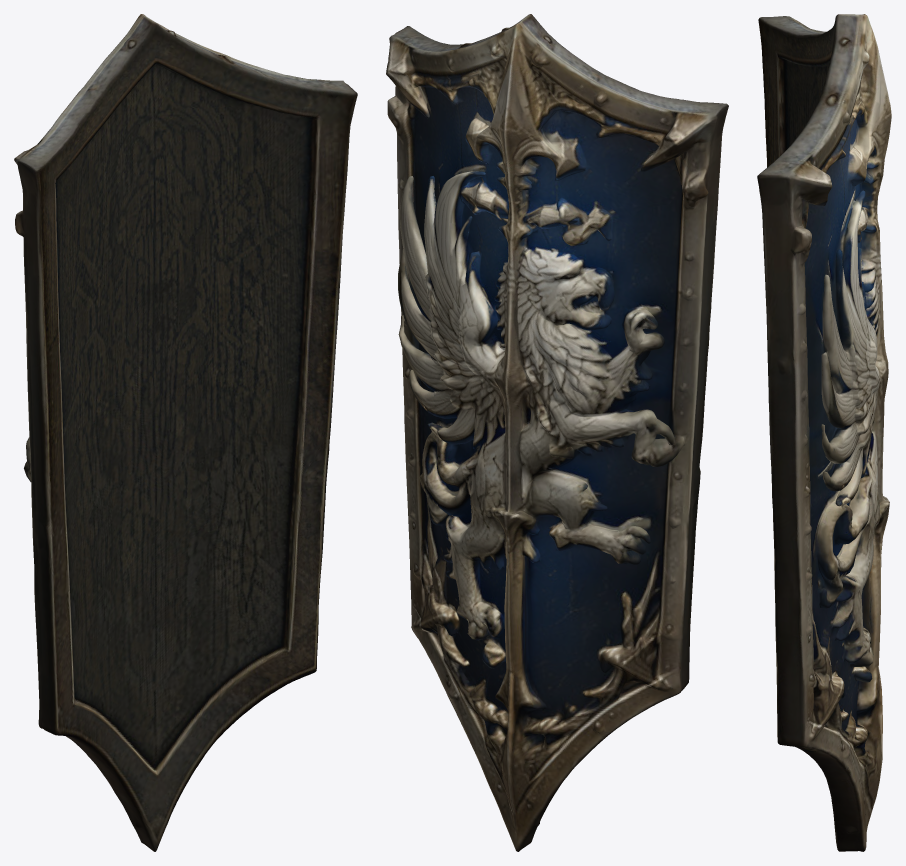
The model's file is tower_griffin.glb.
The picture shows the model from 3 angles, left to right: view 1: azimuth 30°, elevation 25°; view 2: azimuth 150°, elevation 25°; view 3: azimuth 270°, elevation 25°; orthographic projection.
Visible parts, largest first — view 1: tower_griffin; view 2: tower_griffin; view 3: tower_griffin.
Boxes of the visible parts, x1,y1,x2,y2 form: tower_griffin: (14, 14, 357, 851); tower_griffin: (386, 14, 728, 851); tower_griffin: (757, 14, 891, 851).
Bounding box in the file's own units: 0.4548 × 1.1 × 0.1602.
1 material, 1 textured.
